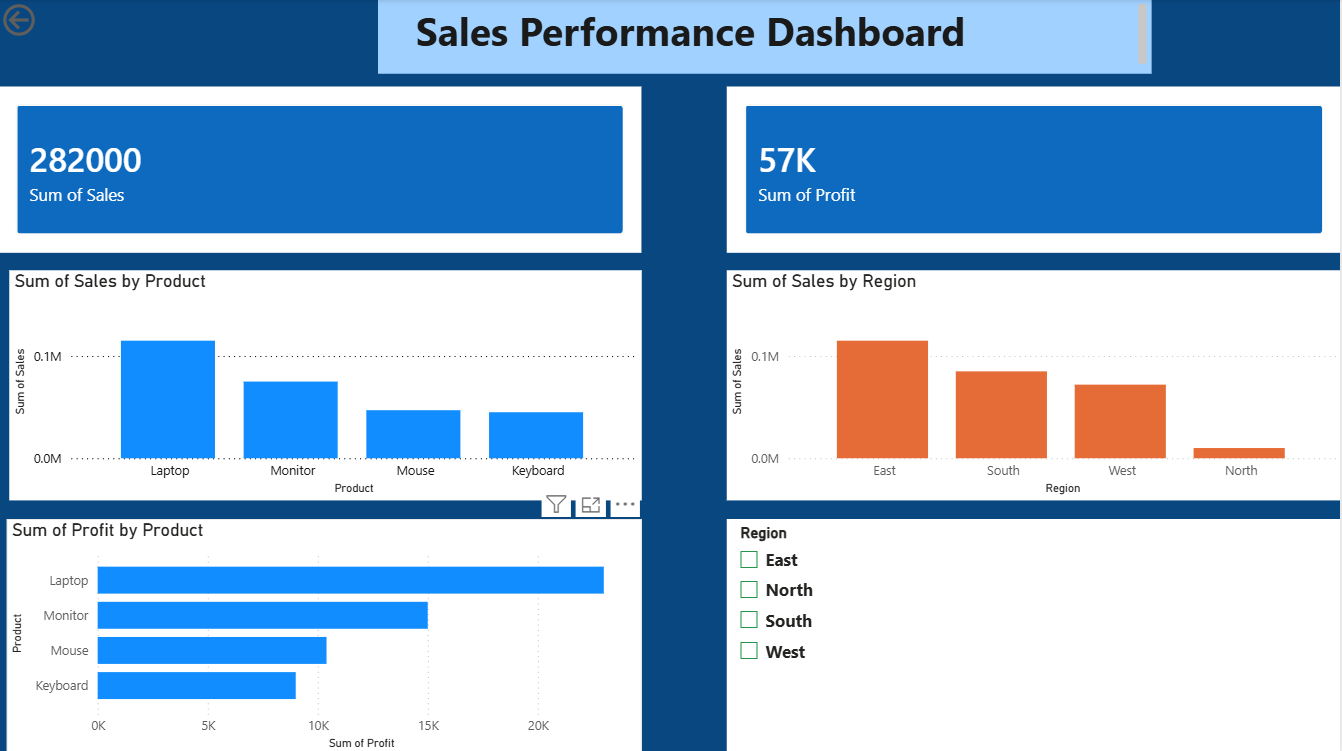

The dashboard page shown, as its layout file describes it:
{"tool":"powerbi","page":{"name":"Page 1","canvas":[1280,720],"ordinal":0},"visuals":[{"type":"clusteredColumnChart","fields":{"Category":["Table.Product"],"Y":["Sum(Table.Sales)"]},"box":[10.7,258.3,602.4,219],"z":0},{"type":"clusteredColumnChart","fields":{"Category":["Table.Region"],"Y":["Sum(Table.Sales)"]},"box":[694.1,258.3,585.7,219],"z":1000},{"type":"clusteredBarChart","fields":{"Category":["Table.Product"],"Y":["Sum(Table.Profit)"]},"box":[8.3,495.2,604.8,225],"z":2000},{"type":"cardVisual","fields":{"Data":["Sum(Table.Sales)"]},"box":[0,83.3,613.1,158.3],"z":3000},{"type":"actionButton","box":[0,0,100,40],"z":4000},{"type":"cardVisual","fields":{"Data":["Sum(Table.Profit)"]},"box":[694.1,83.3,585.7,158.3],"z":5000},{"type":"slicer","fields":{"Values":["Table.Region"]},"box":[694.1,495.2,585.7,225],"z":6000},{"type":"textbox","box":[361.9,0,736.9,71.4],"z":7000}]}

Visuals, with their boxes in screenshot pixels (x1, y1, x2, y2), scaled from the page's 1280x720 canvas onto the 1342x751 screenshot:
clusteredColumnChart - Table.Product x Sum(Table.Sales): (11,269,643,498)
clusteredColumnChart - Table.Region x Sum(Table.Sales): (728,269,1341,498)
clusteredBarChart - Table.Product x Sum(Table.Profit): (9,517,643,750)
cardVisual - Sum(Table.Sales): (0,87,643,252)
actionButton: (0,0,105,42)
cardVisual - Sum(Table.Profit): (728,87,1341,252)
slicer - Table.Region: (728,517,1341,750)
textbox: (379,0,1152,74)
